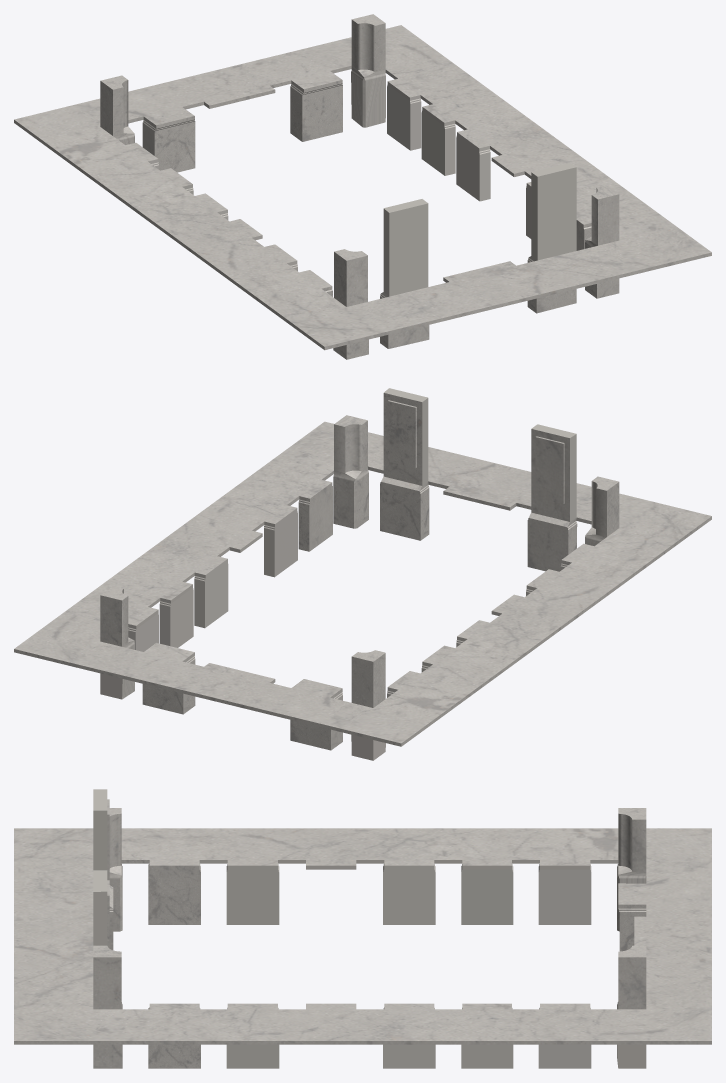
Rendered from floor3.fbx.
3 renders of one model, top to bottom at view 1: azimuth 30°, elevation 25°; view 2: azimuth 150°, elevation 25°; view 3: azimuth 270°, elevation 25°, orthographic. The views are drawn at different scales.
Visible parts, largest first — view 1: floor3_re; view 2: floor3_re; view 3: floor3_re.
Boxes of the visible parts, left/top/right/bottom form: floor3_re: left=14, top=14, right=711, bottom=359; floor3_re: left=14, top=388, right=711, bottom=760; floor3_re: left=14, top=789, right=711, bottom=1068.
Bounding box in the file's own units: 85.99 × 28.96 × 119.
1 material, 1 textured.
